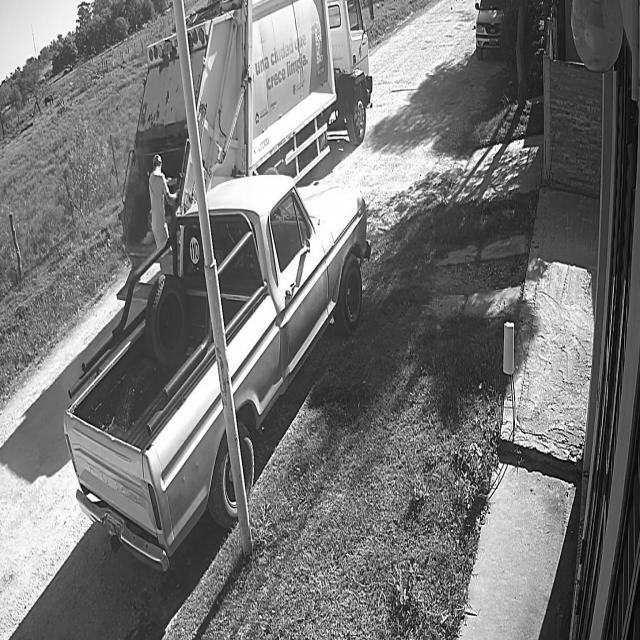Garbage Truck: (182, 0, 372, 187), (115, 36, 196, 302)
